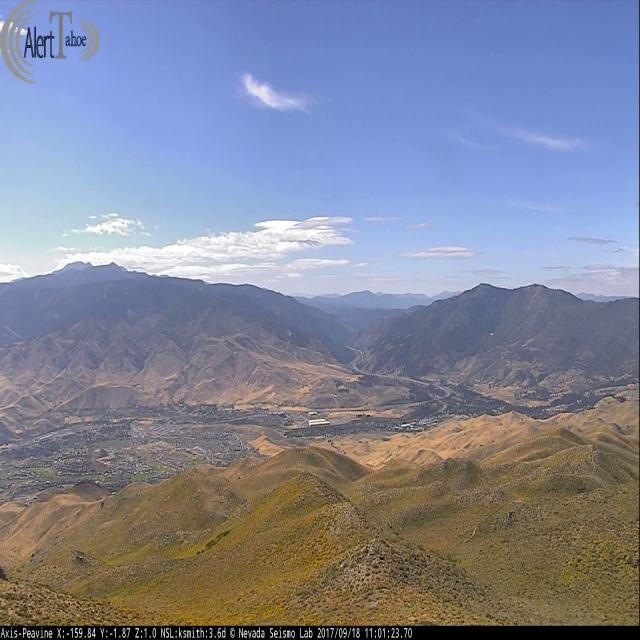smoke: (287, 330, 292, 336)
